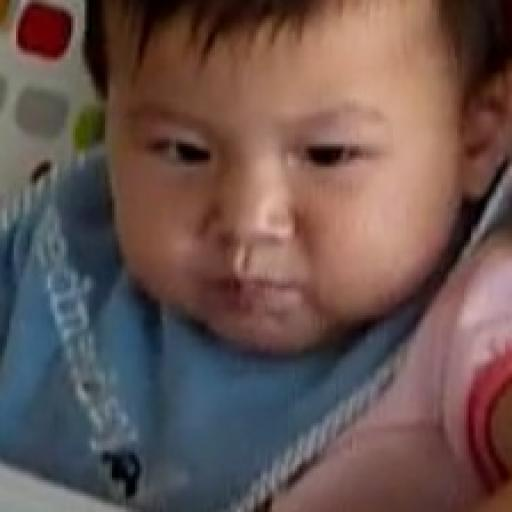Autism: (38, 25, 491, 382)
